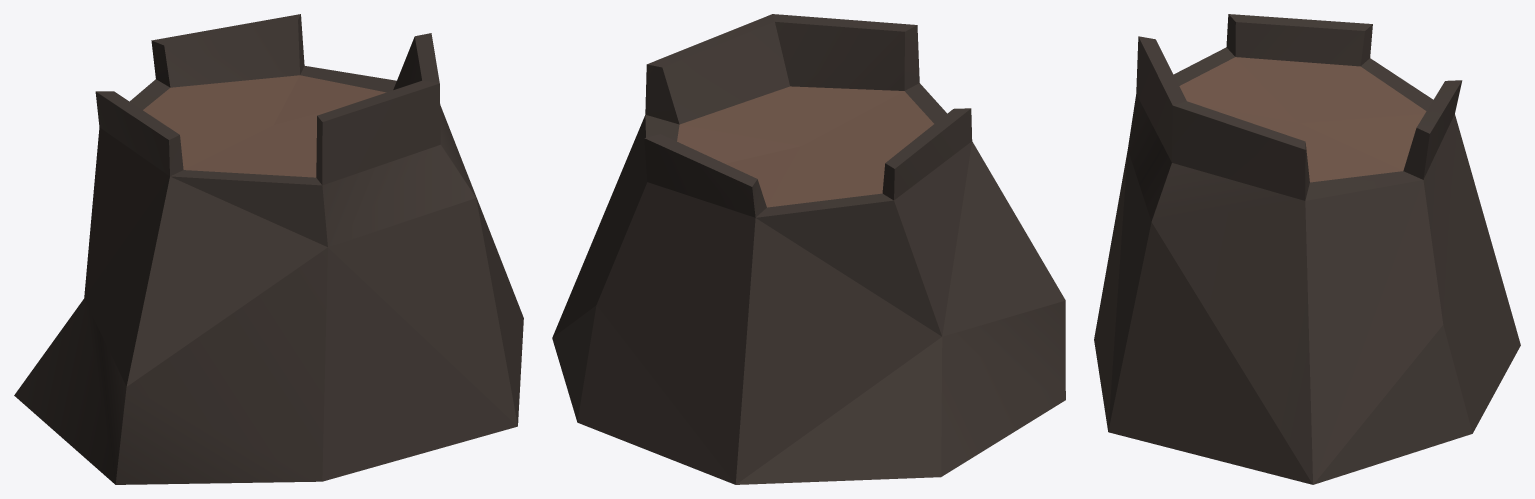
Rendered from SM_Stump_01.fbx.
The picture shows the model from 3 angles, left to right: view 1: azimuth 30°, elevation 25°; view 2: azimuth 150°, elevation 25°; view 3: azimuth 270°, elevation 25°; orthographic projection. The views are drawn at different scales.
Parts seen in each view (by area): view 1: SM_Stump_01; view 2: SM_Stump_01; view 3: SM_Stump_01.
Boxes of the visible parts, x1,y1,x2,y2 form: SM_Stump_01: (14, 14, 523, 484); SM_Stump_01: (552, 14, 1065, 484); SM_Stump_01: (1094, 14, 1520, 484).
Size of the model in its own units: 220 by 148 by 182.
